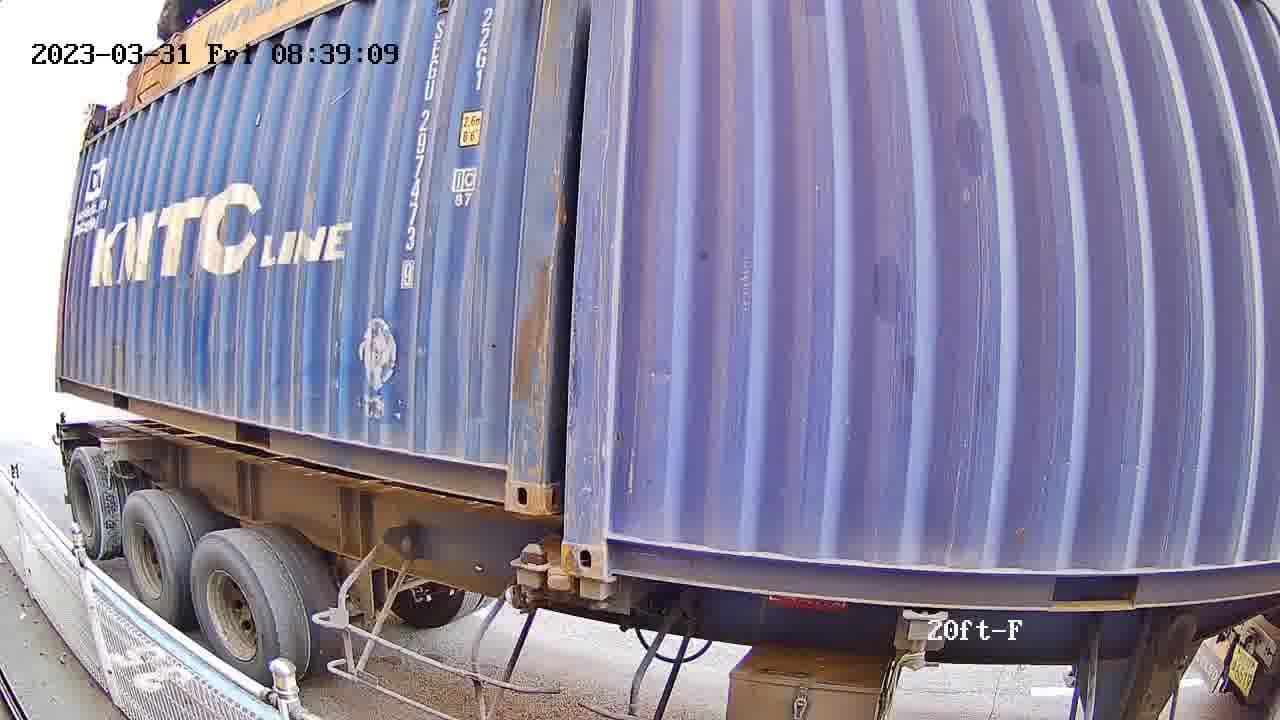Cone: (507, 540, 551, 613), (576, 580, 616, 612)
Hole_L: (564, 503, 646, 585)
Hole_R: (470, 441, 544, 516)
Tire: (190, 536, 285, 688), (122, 493, 183, 627), (69, 451, 110, 557)
